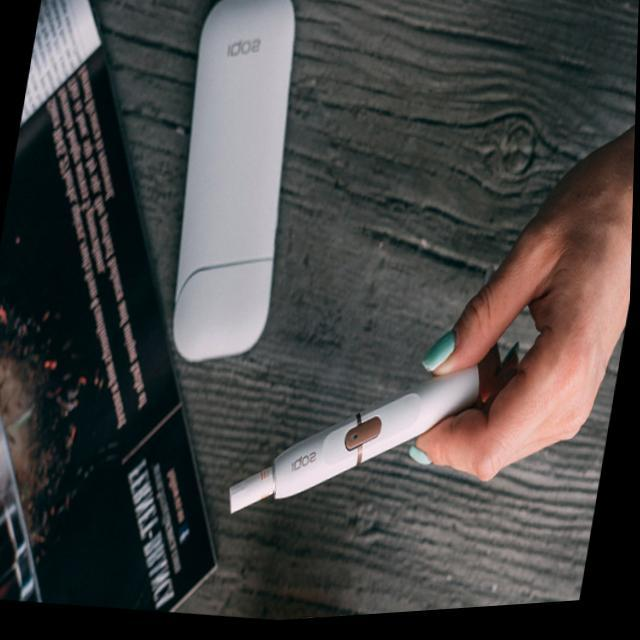iqos: (229, 368, 479, 513)
